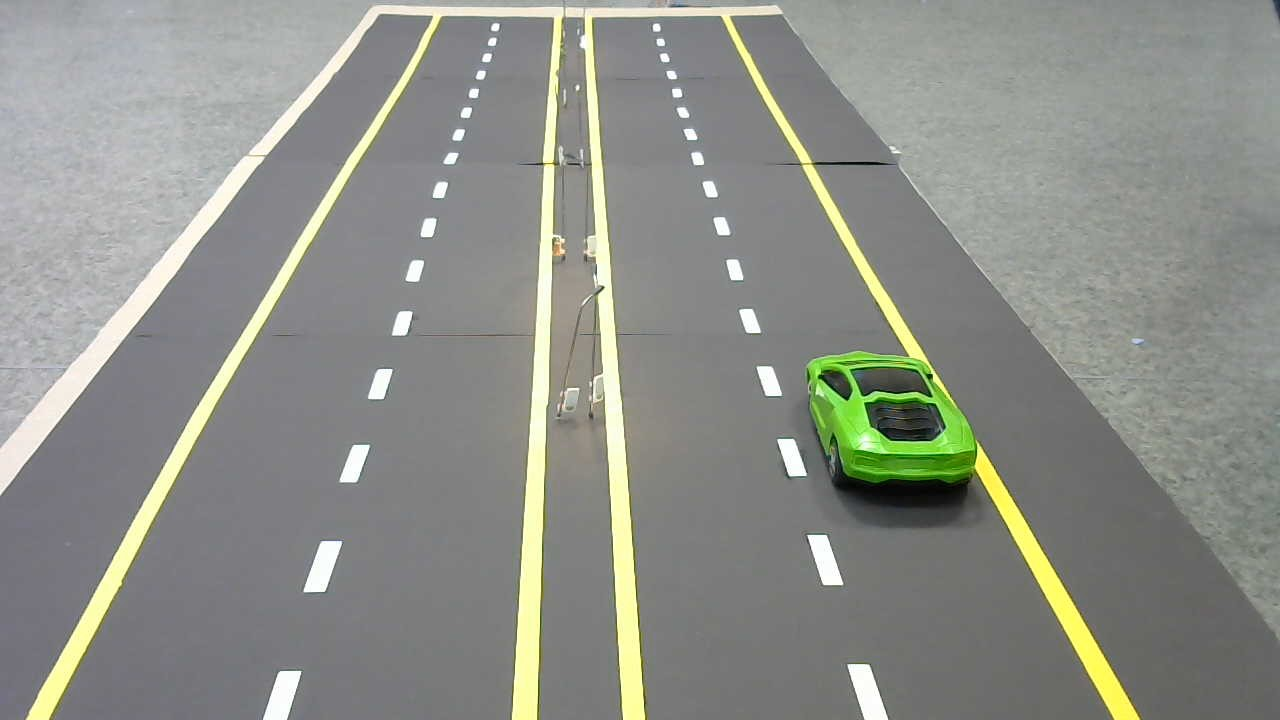back_car: (796, 348, 985, 496)
